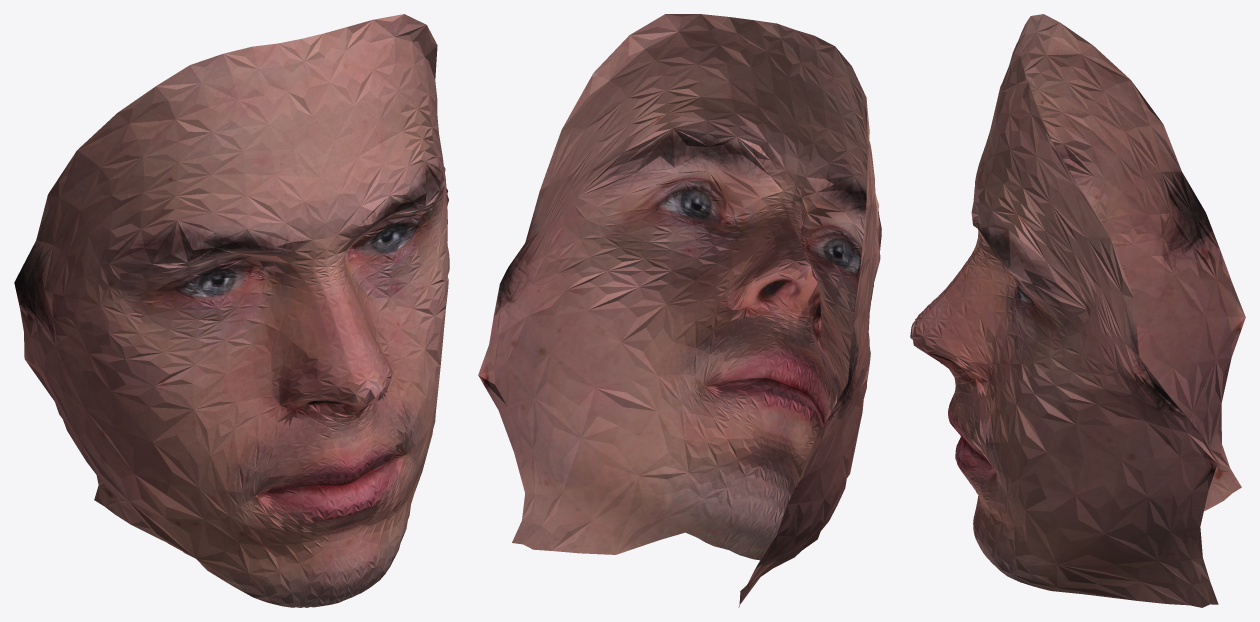
Rendered from M1005_N_conf.obj.
3 renders of one model, left to right at view 1: azimuth 30°, elevation 25°; view 2: azimuth 150°, elevation 25°; view 3: azimuth 270°, elevation 25°, orthographic. The views are drawn at different scales.
Visible parts, largest first — view 1: Object0; view 2: Object0; view 3: Object0.
Part boxes in pixels (x1,y1,x2,y2): Object0: [14, 14, 449, 607]; Object0: [478, 14, 881, 607]; Object0: [910, 14, 1245, 607].
Size of the model in its own units: 148 by 202 by 118.
1 material, 1 textured.
